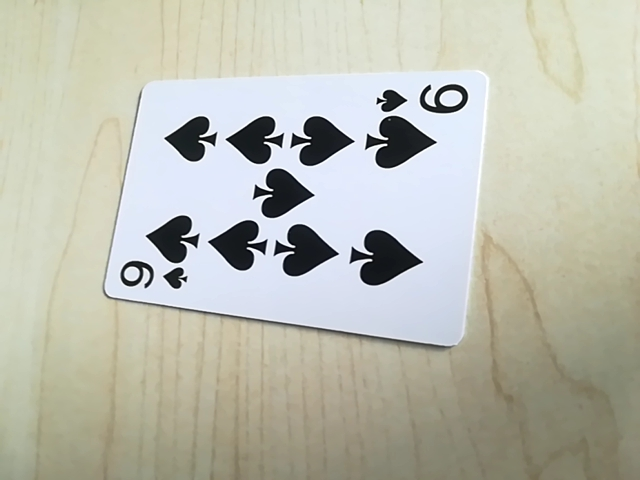ht 9: (372, 79, 471, 118), (111, 260, 193, 297)
